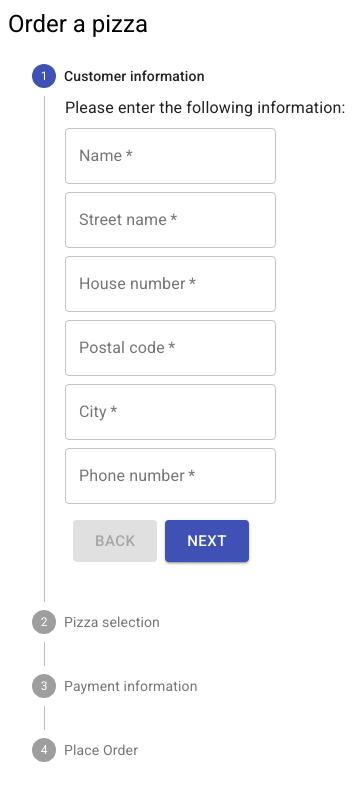
Test: App › pass input to test house number input field
The width and height of the screenshot is (362, 800).
Type "John Doe" into the field with test id "name-input" at (170, 156), box [65, 128, 276, 184]
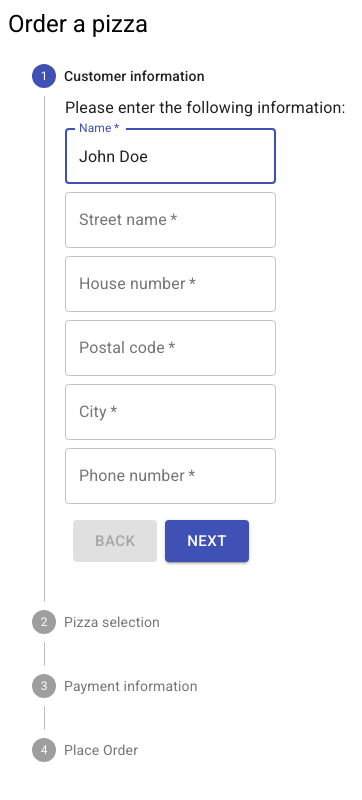
Type "John Doe" into the field with test id "streetName-input" at (170, 220), box [65, 192, 276, 248]
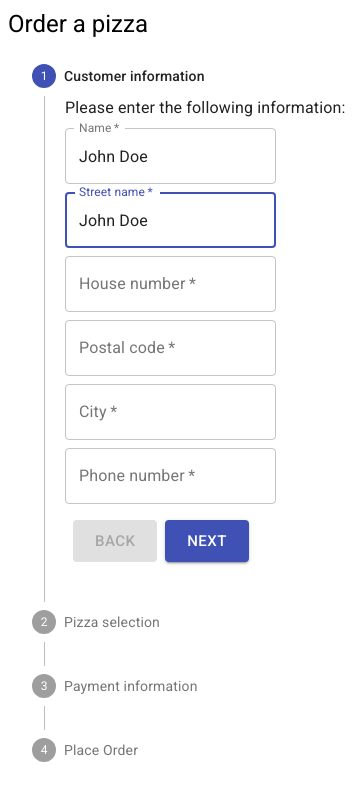
Type "34" into the field with test id "houseNumber-input" at (170, 284), box [65, 256, 276, 312]
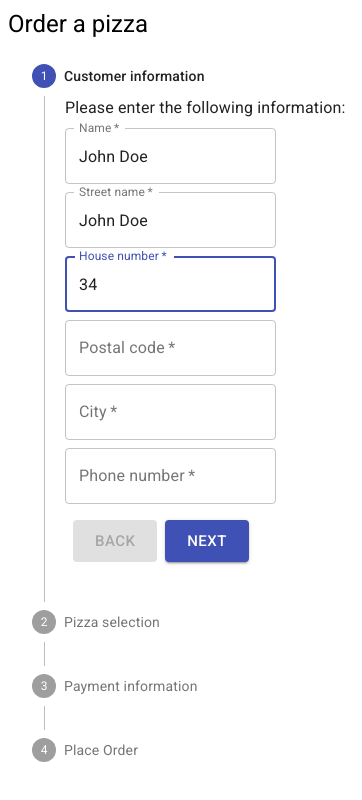
Click the button "Next" at (207, 541), box [165, 520, 249, 562]
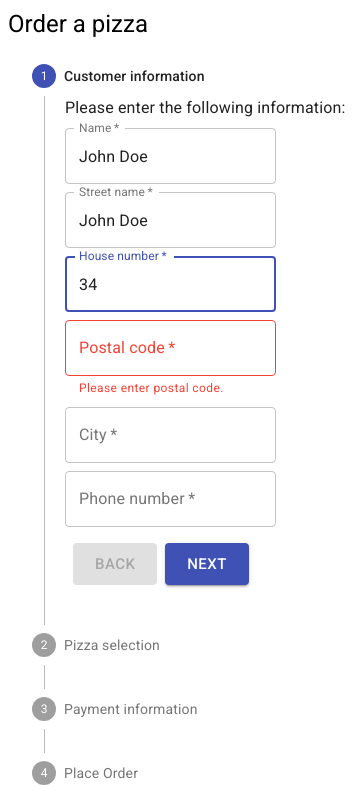
Now the text "Please enter postal code." is shown, box [79, 381, 224, 395]
